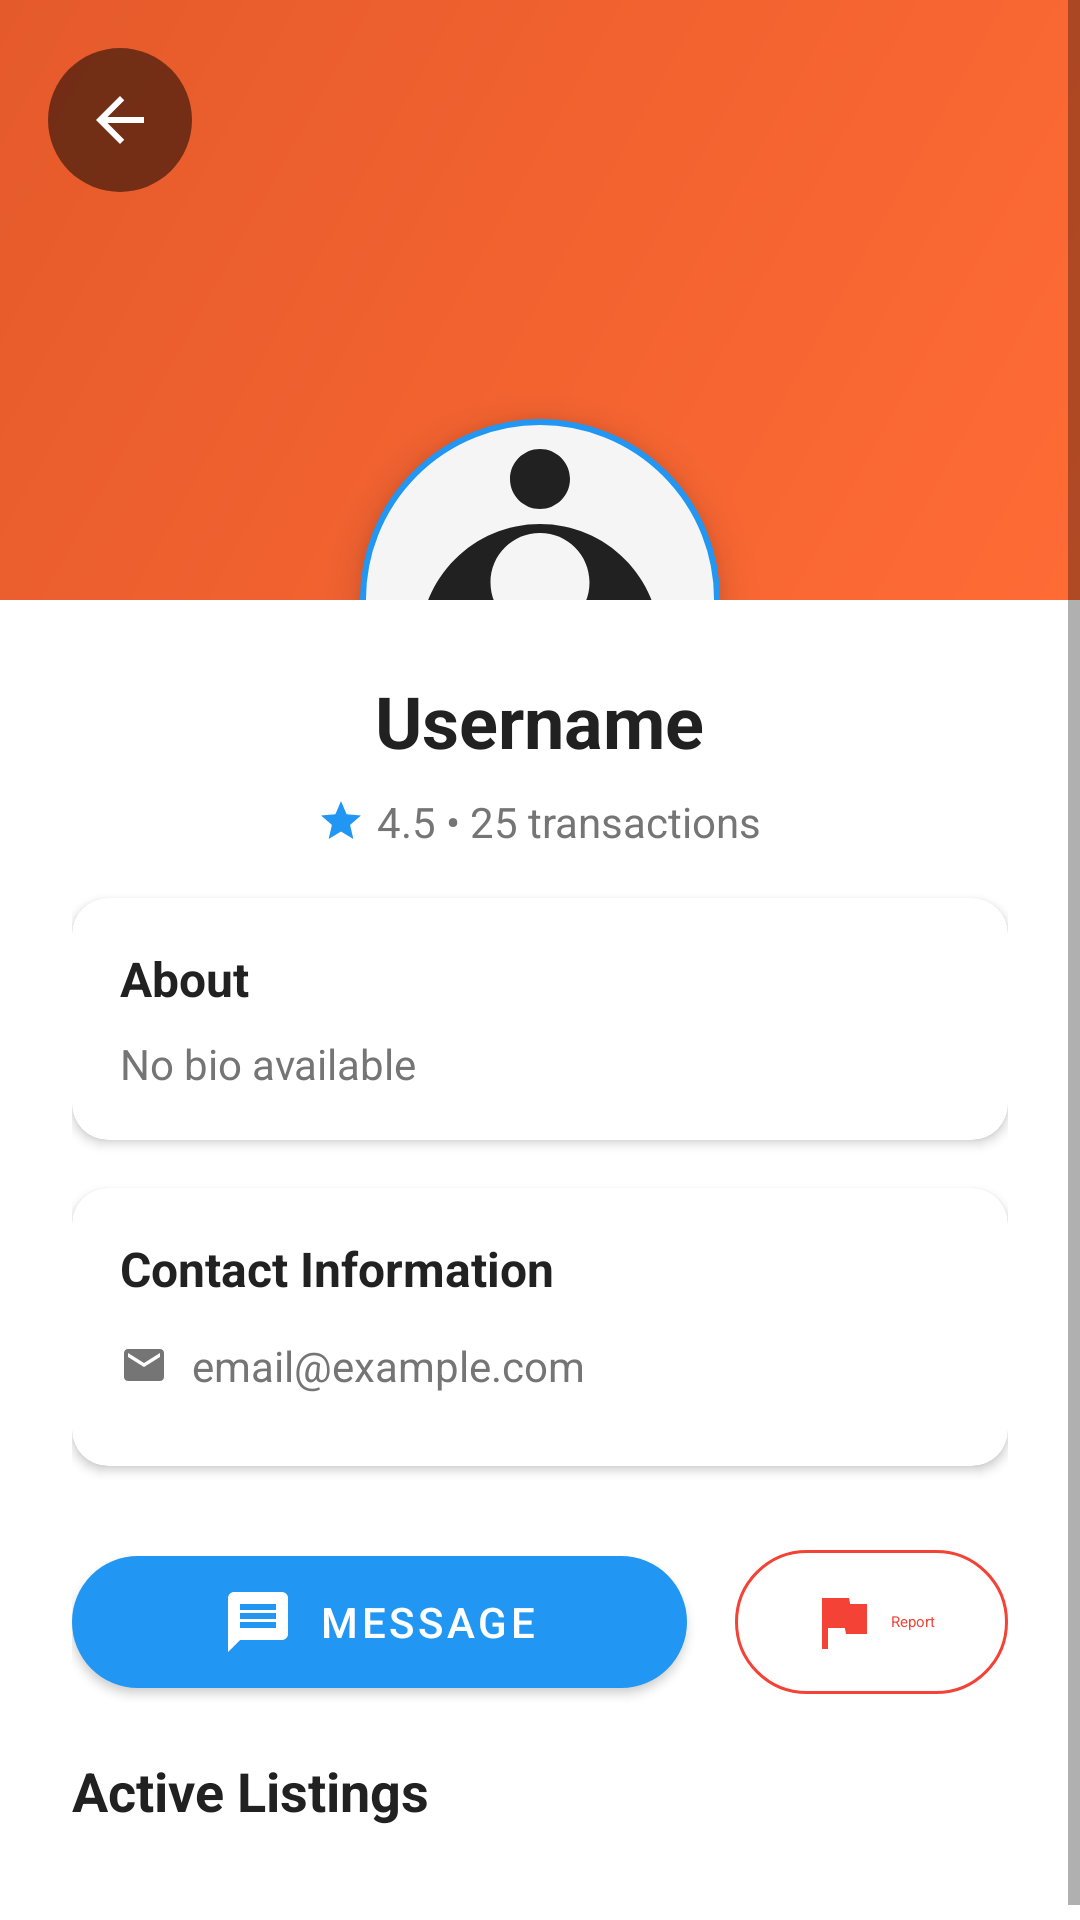

Icon bounding boxes for this 1080w x 1920h phone screenshot, format [x1, y1, x2, y2]:
Back: [48, 48, 192, 192]
star: [321, 801, 361, 839]
